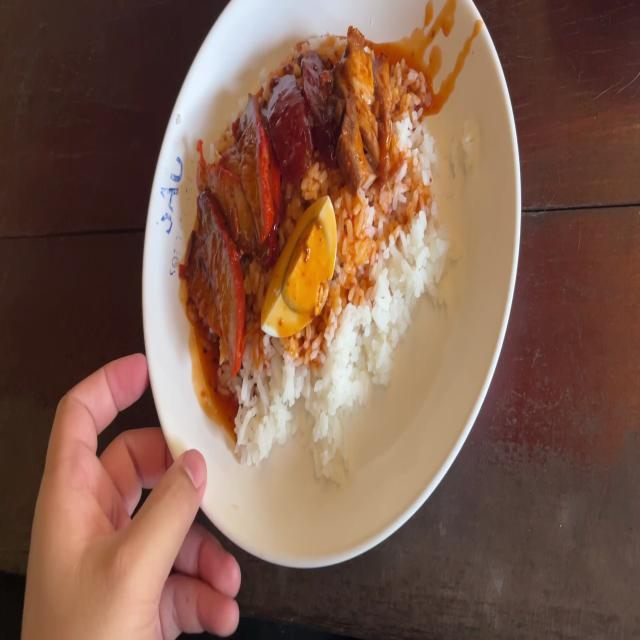01boiled_egg: (264, 199, 338, 332)
01chainese_sausage: (266, 55, 336, 166)
01crispy_pork: (342, 28, 393, 186)
01red_pork: (186, 102, 262, 356)
01red_pork_and_crispy_pork: (185, 45, 446, 446)
01rice: (344, 190, 434, 370), (232, 336, 358, 459), (394, 64, 433, 204)
